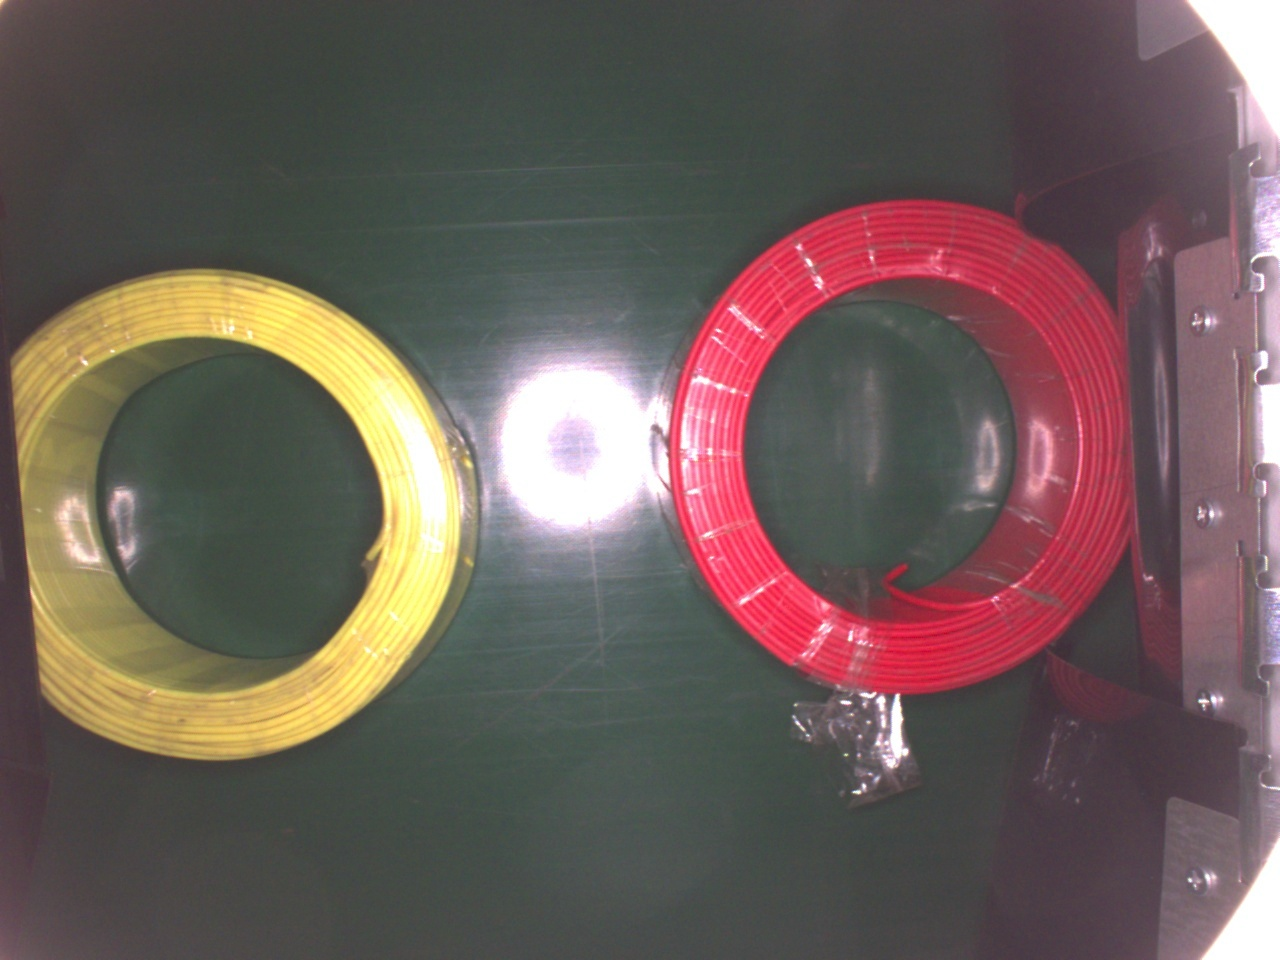red: (649, 194, 1137, 698)
yellow: (0, 266, 478, 765)
